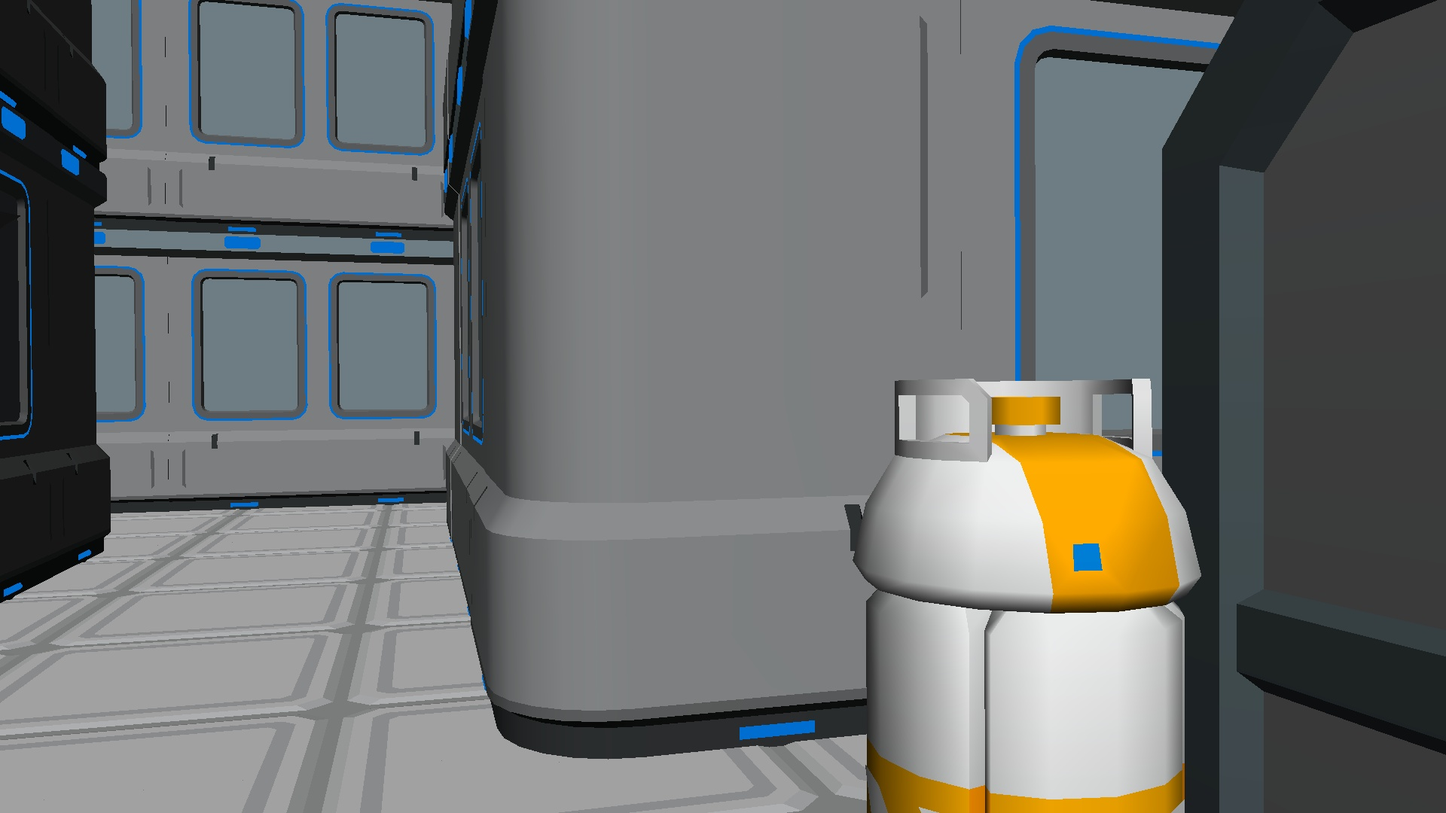yellow barrel: (843, 377, 1201, 813)
